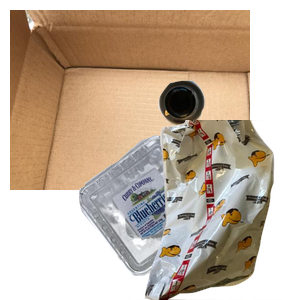cardboard: (10, 10, 250, 190)
glass: (156, 78, 300, 197)
plastic: (77, 133, 289, 300)
trash: (127, 120, 300, 300)
